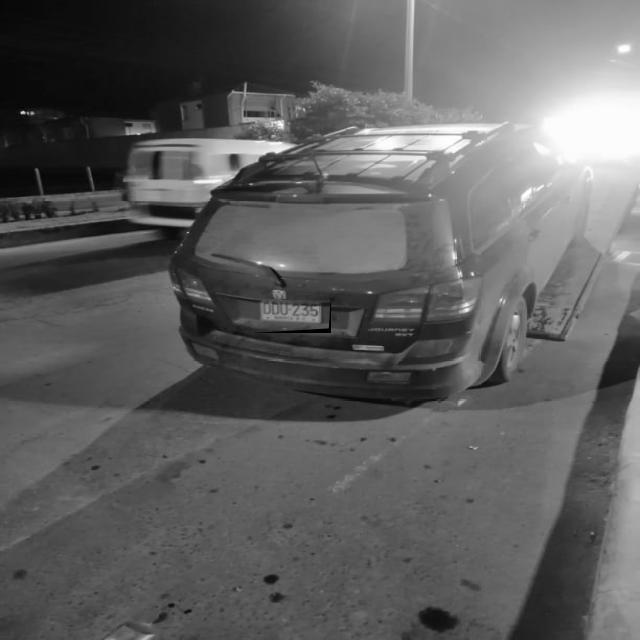plate: (253, 299, 331, 333)
